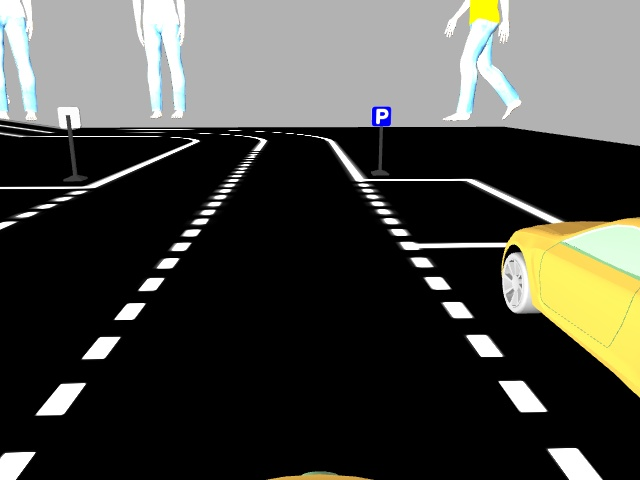Parking: (368, 104, 393, 127)
